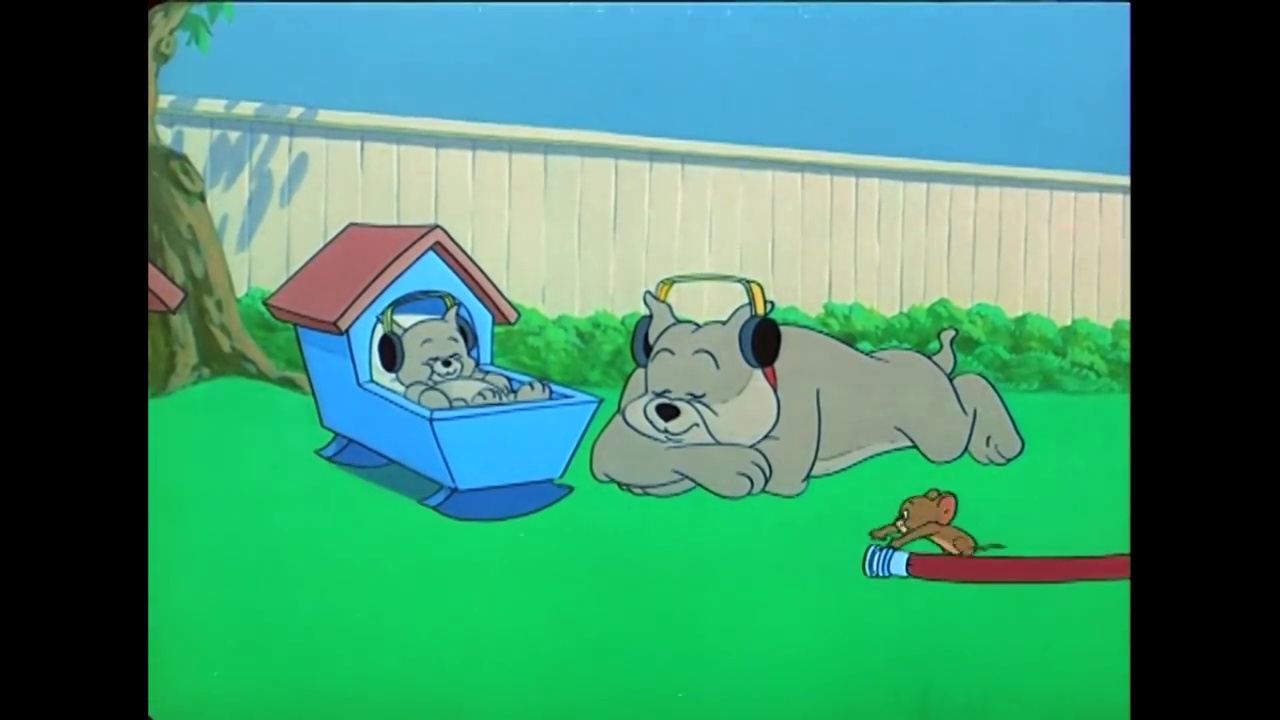spike: (609, 280, 790, 455)
